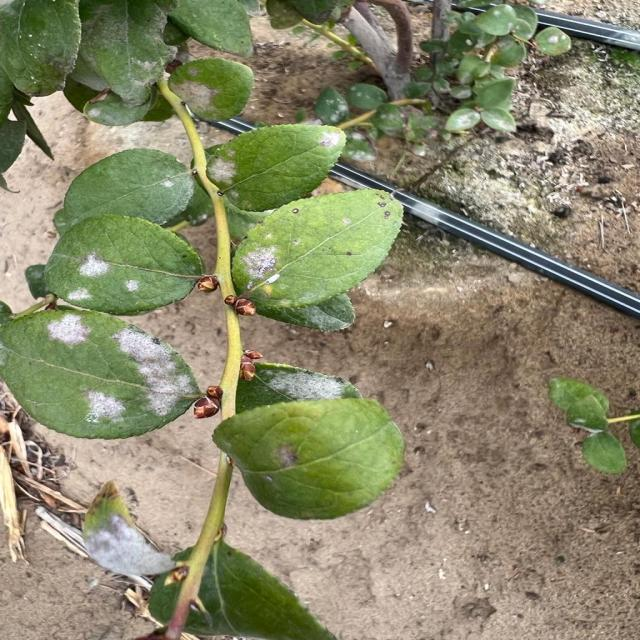Hojas con oidiosis: (0, 308, 204, 443), (227, 187, 404, 309), (41, 212, 204, 317), (231, 361, 367, 470), (202, 124, 348, 211), (60, 146, 196, 238), (166, 55, 254, 124)
